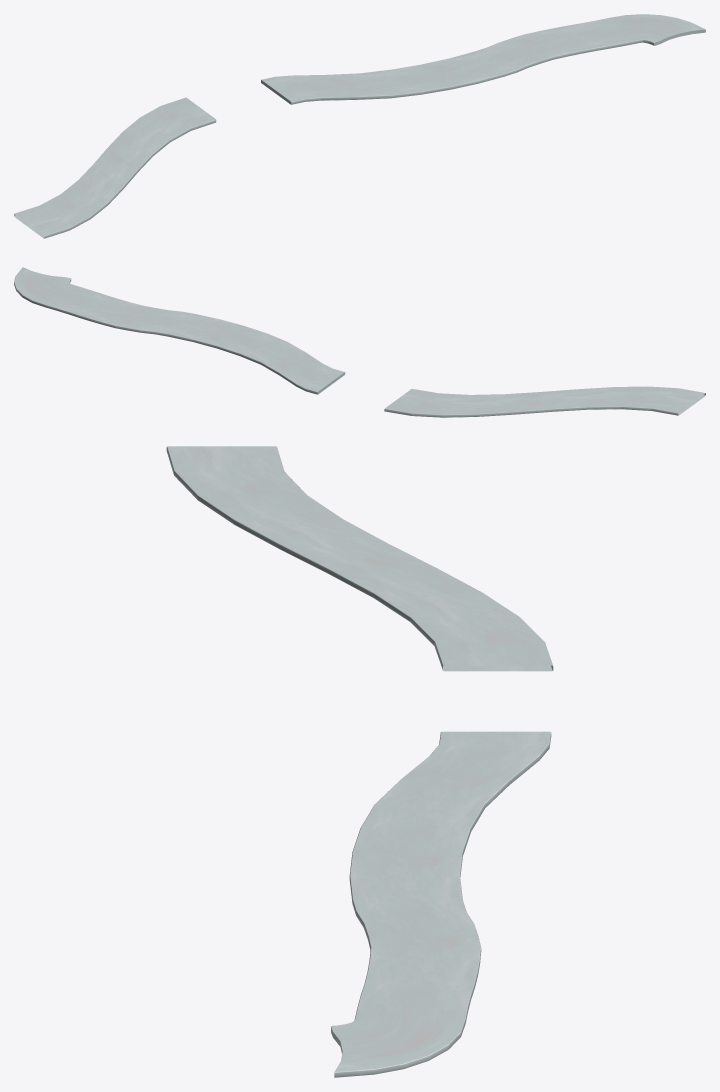
Rendered from field_winter_road2.fbx.
3 views of the same model, one above another, from view 1: azimuth 30°, elevation 25°; view 2: azimuth 150°, elevation 25°; view 3: azimuth 270°, elevation 25° (orthographic). The views are drawn at different scales.
Parts seen in each view (by area): view 1: field_winter_road2; view 2: field_winter_road2; view 3: field_winter_road2.
Boxes of the visible parts, <box> form: field_winter_road2: <box>14,14,705,238</box>; field_winter_road2: <box>14,267,705,417</box>; field_winter_road2: <box>166,446,553,1077</box>.
Size of the model in its own units: 3646 by 16.35 by 952.
Materials: 1 (1 with a texture image).
